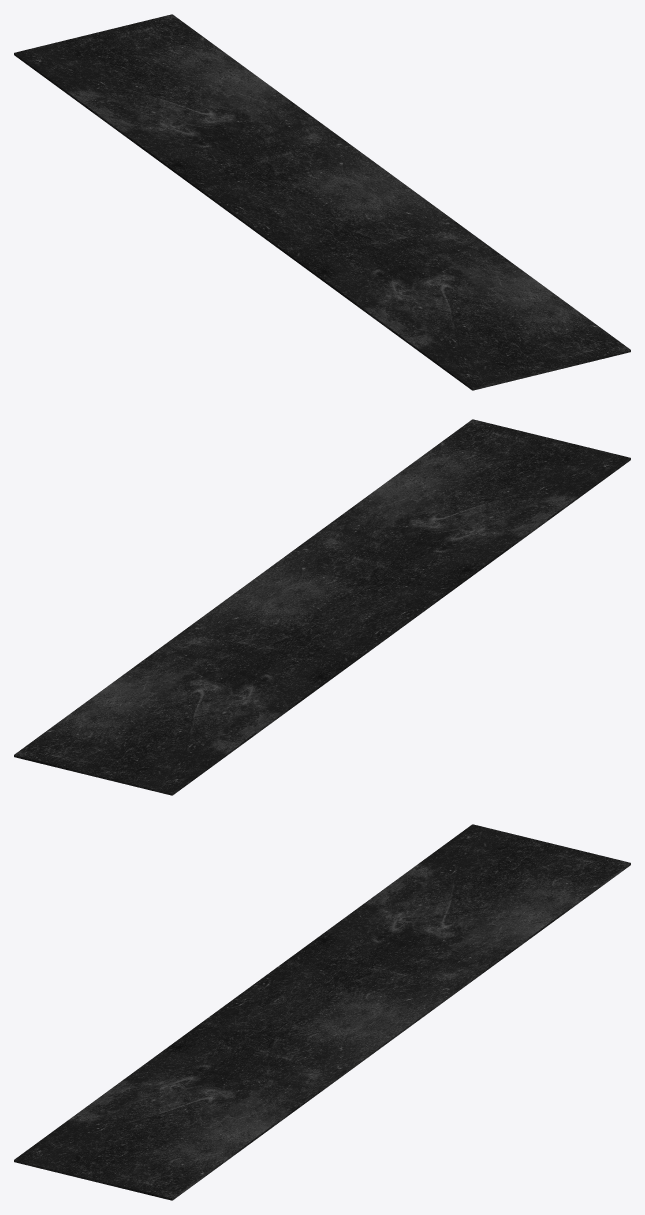
The model's file is SM_Black_Board_Left.fbx.
3 views of the same model, one above another, from view 1: azimuth 30°, elevation 25°; view 2: azimuth 150°, elevation 25°; view 3: azimuth 330°, elevation 25° (orthographic).
Parts seen in each view (by area): view 1: SM_Black_Board_Left_LOD0; view 2: SM_Black_Board_Left_LOD0; view 3: SM_Black_Board_Left_LOD0.
Part boxes in pixels (x1,y1,x2,y2): SM_Black_Board_Left_LOD0: [14, 14, 630, 390]; SM_Black_Board_Left_LOD0: [14, 419, 630, 795]; SM_Black_Board_Left_LOD0: [14, 824, 630, 1200].
Bounding box in the file's own units: 76.73 × 384 × 1.13.
Materials: 1 (1 with a texture image).
